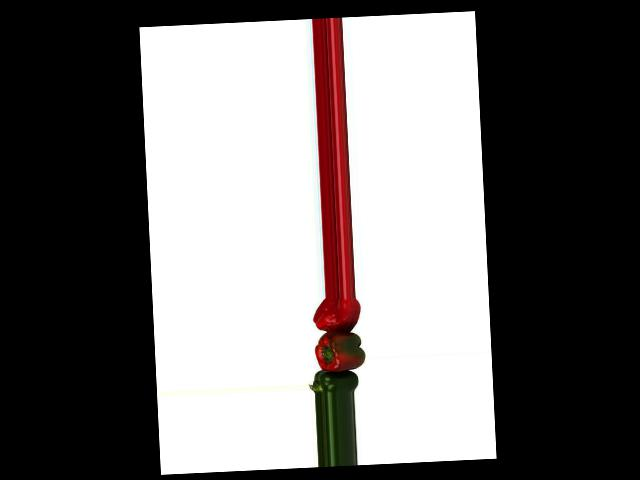bell_pepper: (308, 296, 364, 334)
